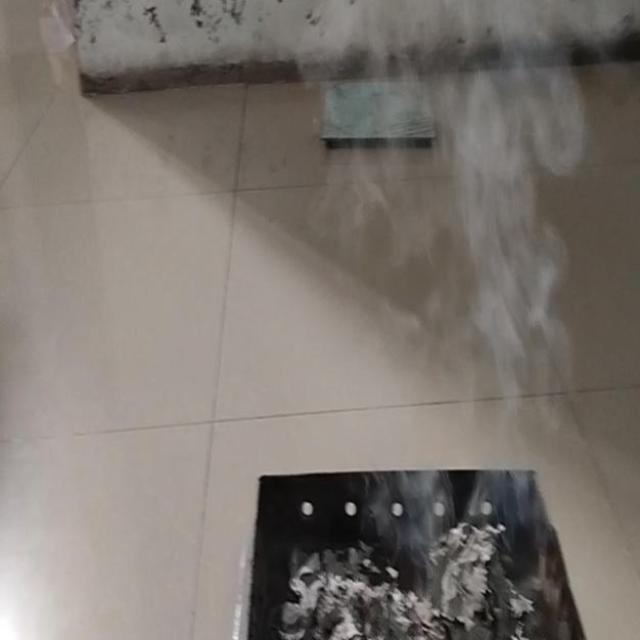fire: (379, 0, 577, 361)
